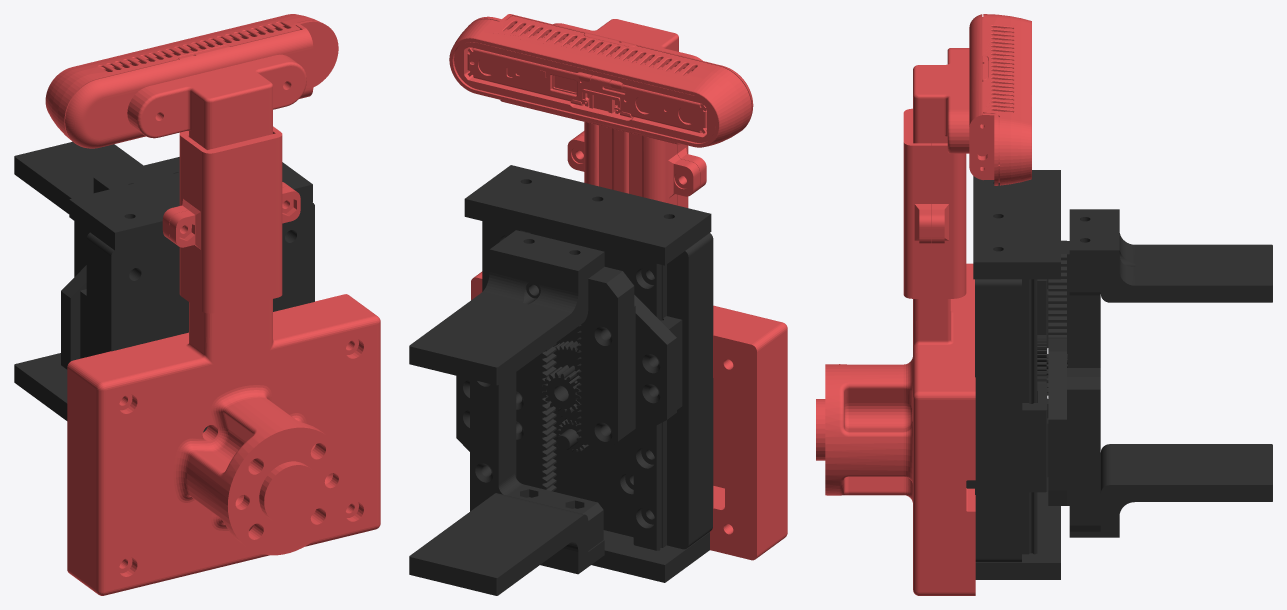
Rendered from abbgripper.fbx.
3 views of the same model, side by side, from view 1: azimuth 30°, elevation 25°; view 2: azimuth 150°, elevation 25°; view 3: azimuth 270°, elevation 25° (orthographic). The views are drawn at different scales.
Parts seen in each view (by area): view 1: Gripper top part, Gripper bottom part; view 2: Gripper bottom part, Gripper top part; view 3: Gripper bottom part, Gripper top part.
Part boxes in pixels (left/top/right/bottom): Gripper top part: left=45, top=14, right=380, bottom=595; Gripper bottom part: left=14, top=141, right=314, bottom=432; Gripper bottom part: left=409, top=165, right=713, bottom=595; Gripper top part: left=449, top=14, right=787, bottom=560; Gripper bottom part: left=966, top=170, right=1272, bottom=579; Gripper top part: left=816, top=14, right=1031, bottom=595.
Size of the model in its own units: 10000 by 16370 by 14599.
